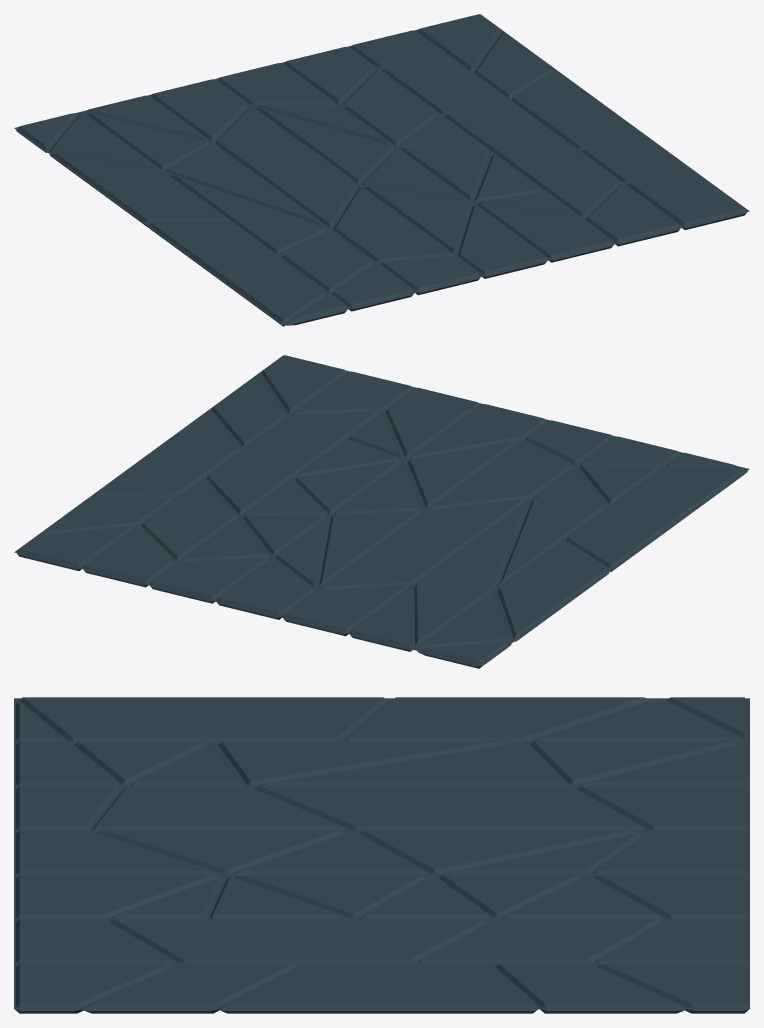
Rendered from zemin.fbx.
3 views of the same model, one above another, from view 1: azimuth 30°, elevation 25°; view 2: azimuth 150°, elevation 25°; view 3: azimuth 270°, elevation 25° (orthographic). The views are drawn at different scales.
Visible parts, largest first — view 1: Plane.007, Plane.006; view 2: Plane.007, Plane.006; view 3: Plane.007, Plane.006.
Part boxes in pixels (x1=…): Plane.007: x1=16, y1=14, x2=746, y2=326; Plane.006: x1=14, y1=14, x2=749, y2=325; Plane.007: x1=17, y1=355, x2=747, y2=668; Plane.006: x1=14, y1=355, x2=749, y2=666; Plane.007: x1=15, y1=697, x2=748, y2=1013; Plane.006: x1=14, y1=698, x2=749, y2=1009.
Bounding box in the file's own units: 200 × 3 × 200.
